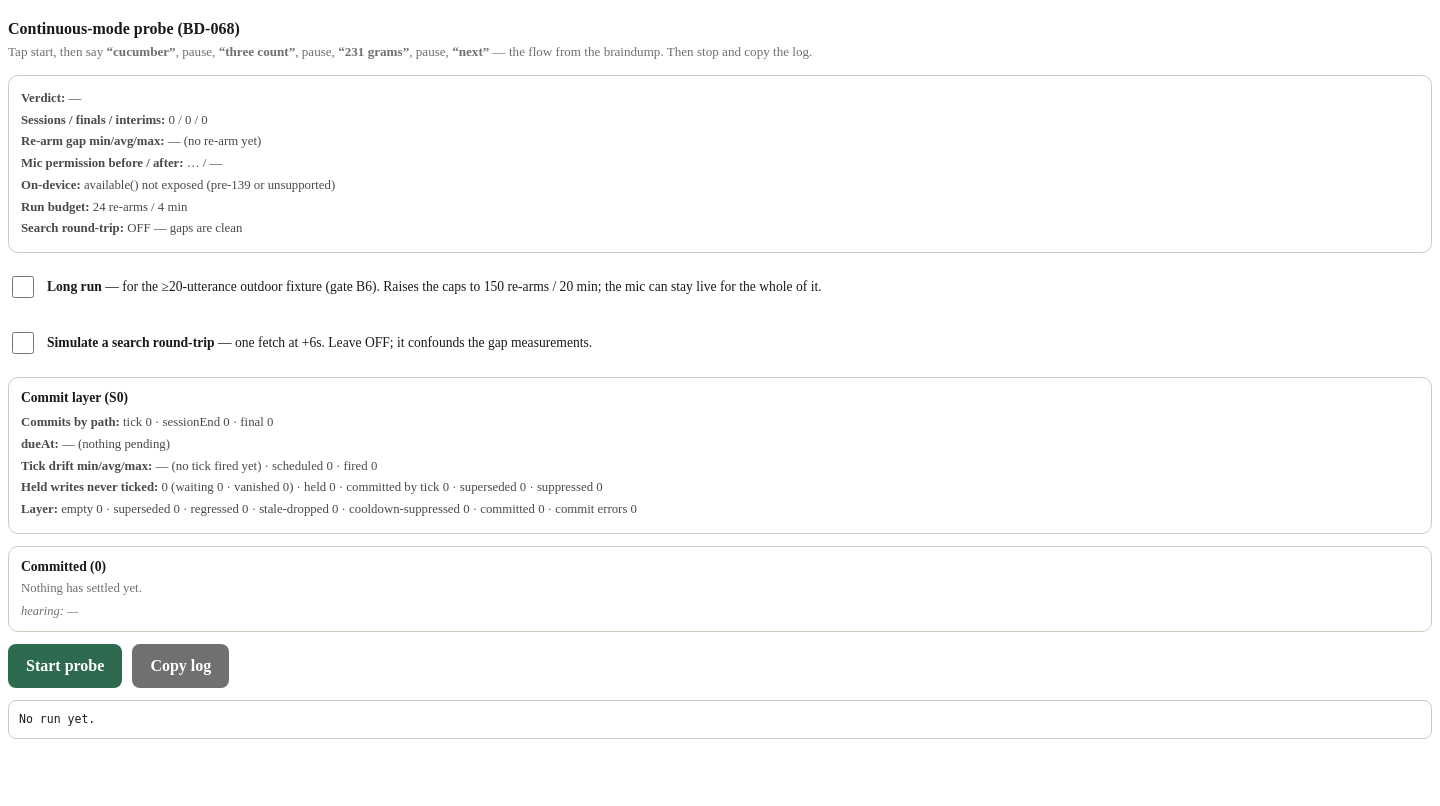
Test: ContinuousVoiceProbe — S0 debounce host › declares its own SCOPE in the log — classify() only, and it never writes
The image size is (1440, 806).
Click the button "Start probe".
click(65, 666)  # box [8,644,122,688]
(page scrolled)
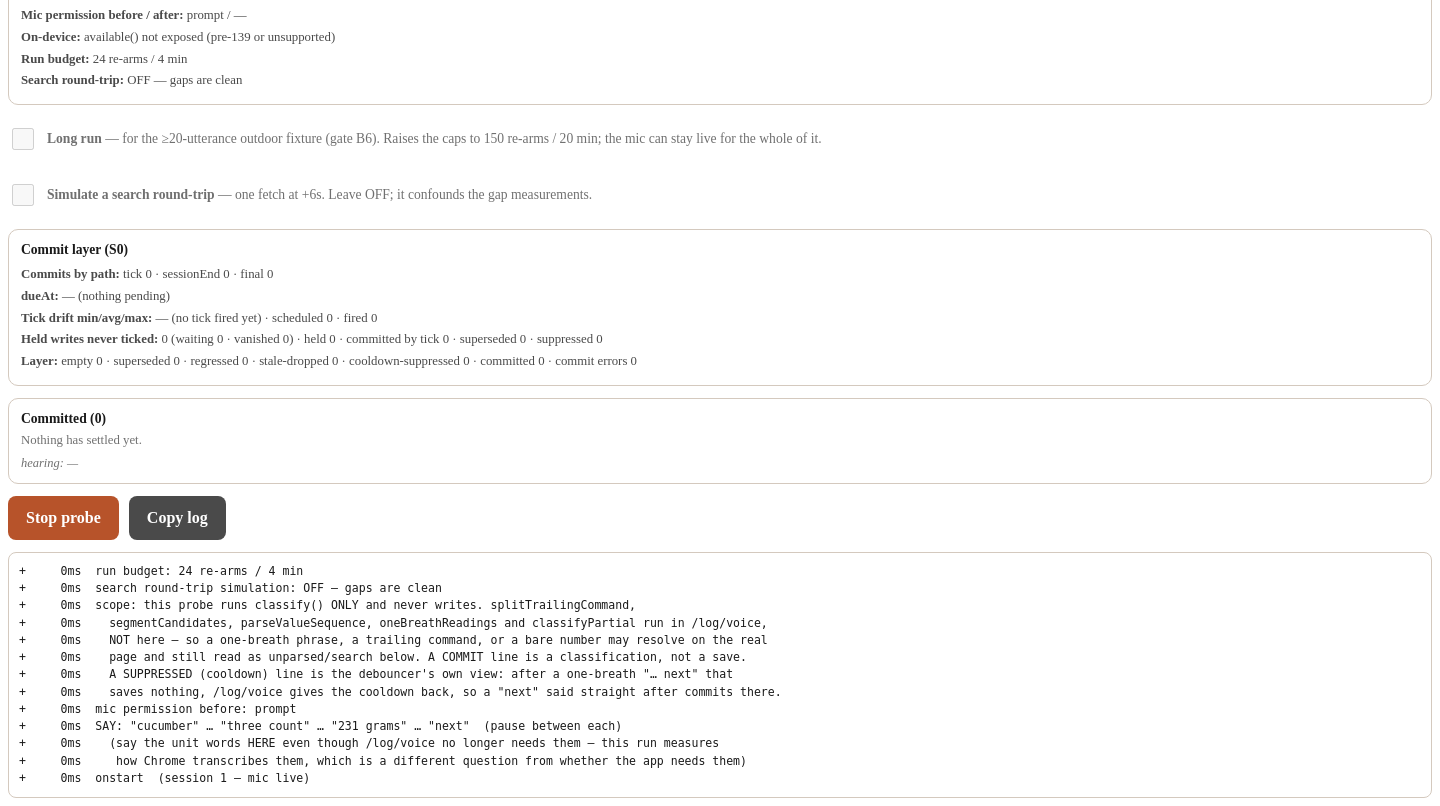
Now the text with test id "voice-probe-log" shows "classify() ONLY", box [19,564,782,785]
Now the text with test id "voice-probe-log" shows "never writes", box [19,564,782,785]
Now the text with test id "voice-probe-log" shows "a save", box [19,564,782,785]
